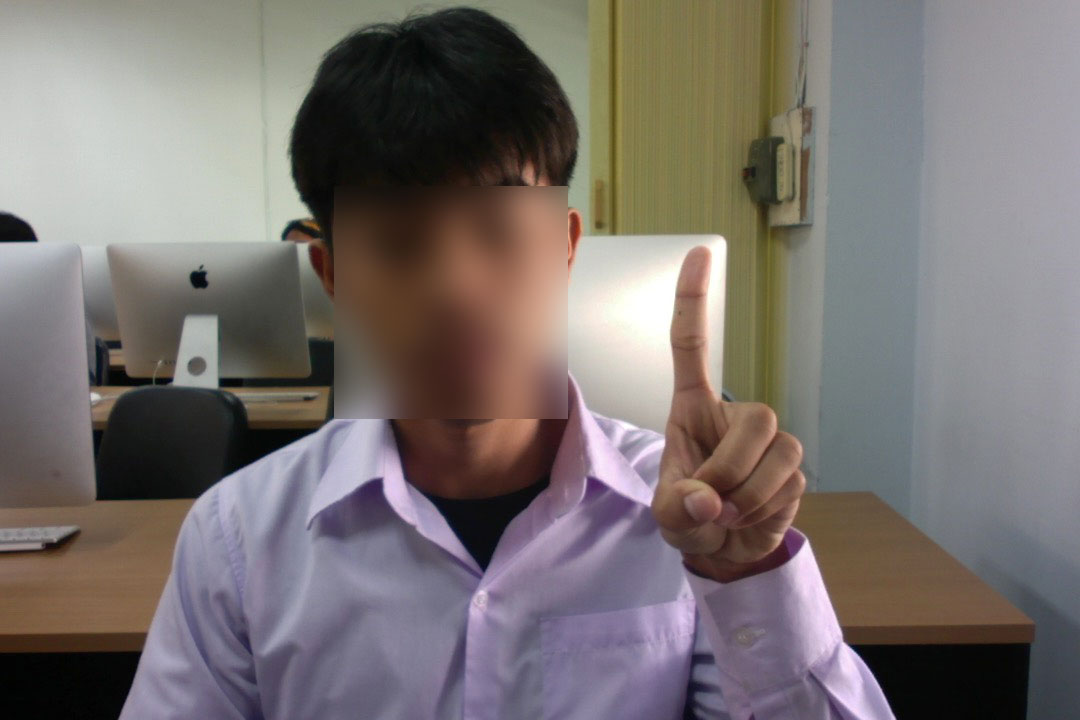dor: (635, 238, 820, 582)
